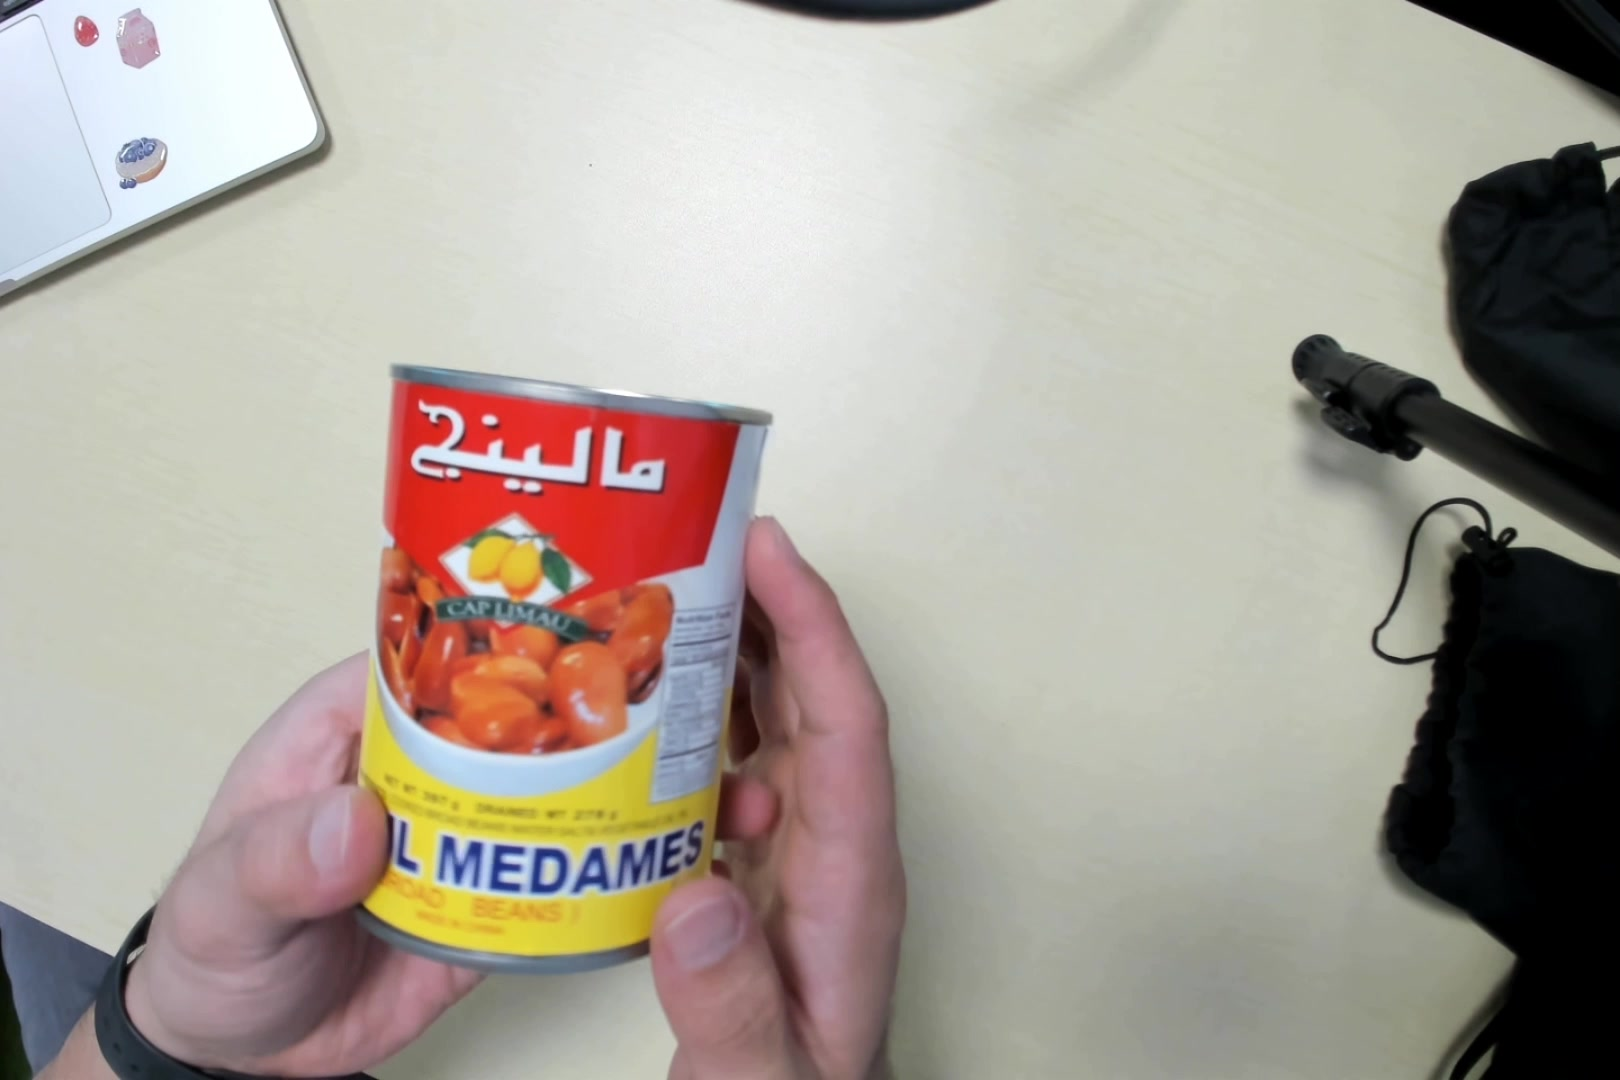OtherCannedBeansPeasPeanuts_400-499g_Halal_NonHealthy: (350, 364, 750, 980)
